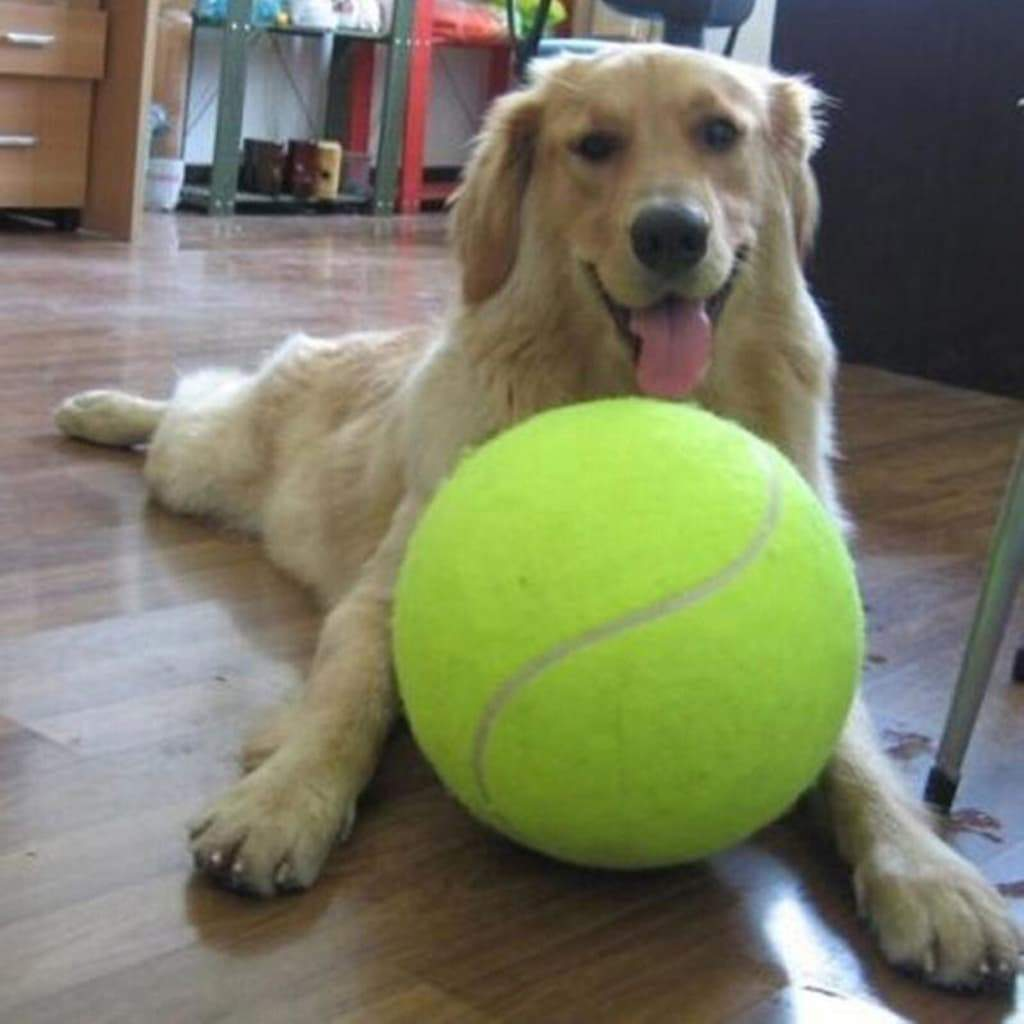aim: (389, 396, 864, 875)
